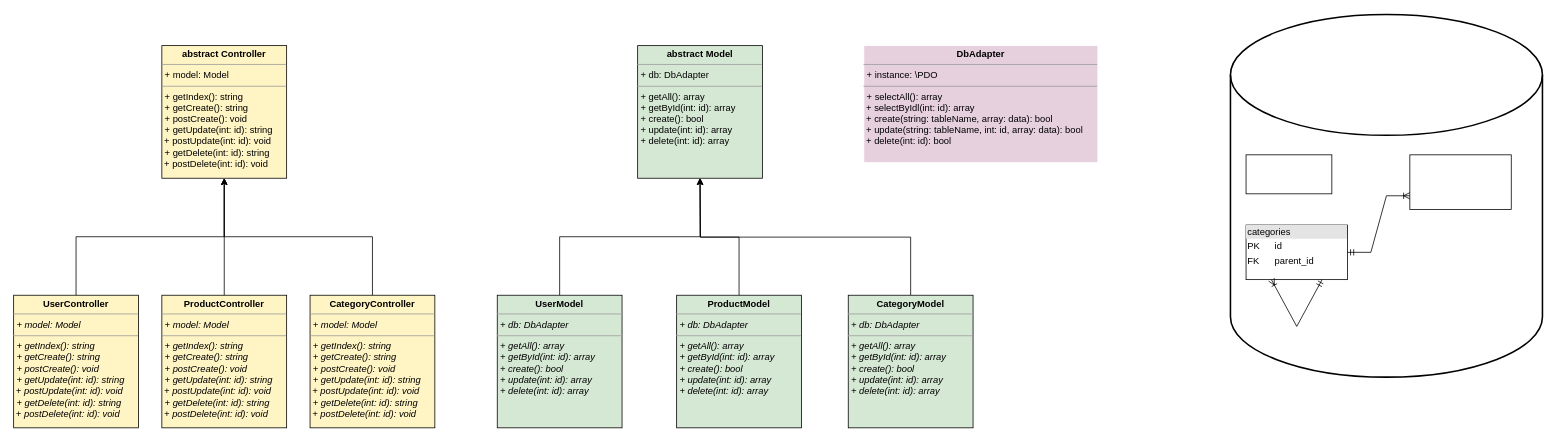
Some shapes in this 1557 by 441 pixel diagram are drawn without their labels. The centre of each missing label's shape, as x and y in pixels:
"Korisnici PK id" belongs at [1288,174].
"products PK id FK categories_id" belongs at [1460,181].
